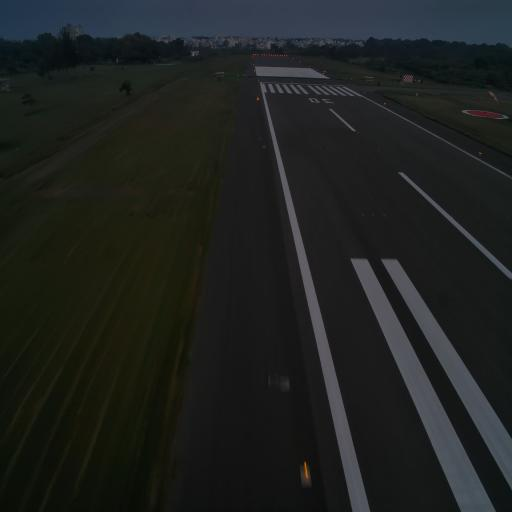off: (360, 210, 365, 220), (372, 210, 376, 222), (382, 211, 386, 218), (263, 143, 266, 151), (326, 146, 329, 152), (319, 146, 322, 151), (334, 146, 336, 152)
on: (296, 457, 313, 490), (478, 148, 482, 158), (376, 148, 380, 154), (383, 101, 386, 106), (358, 131, 360, 136)
